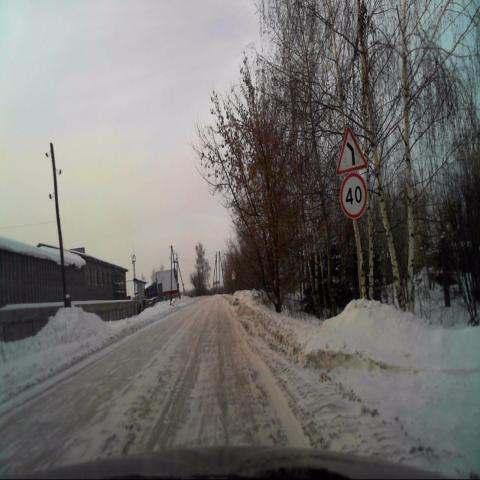1_11_1: (337, 126, 367, 175)
3_24: (340, 175, 367, 219)
